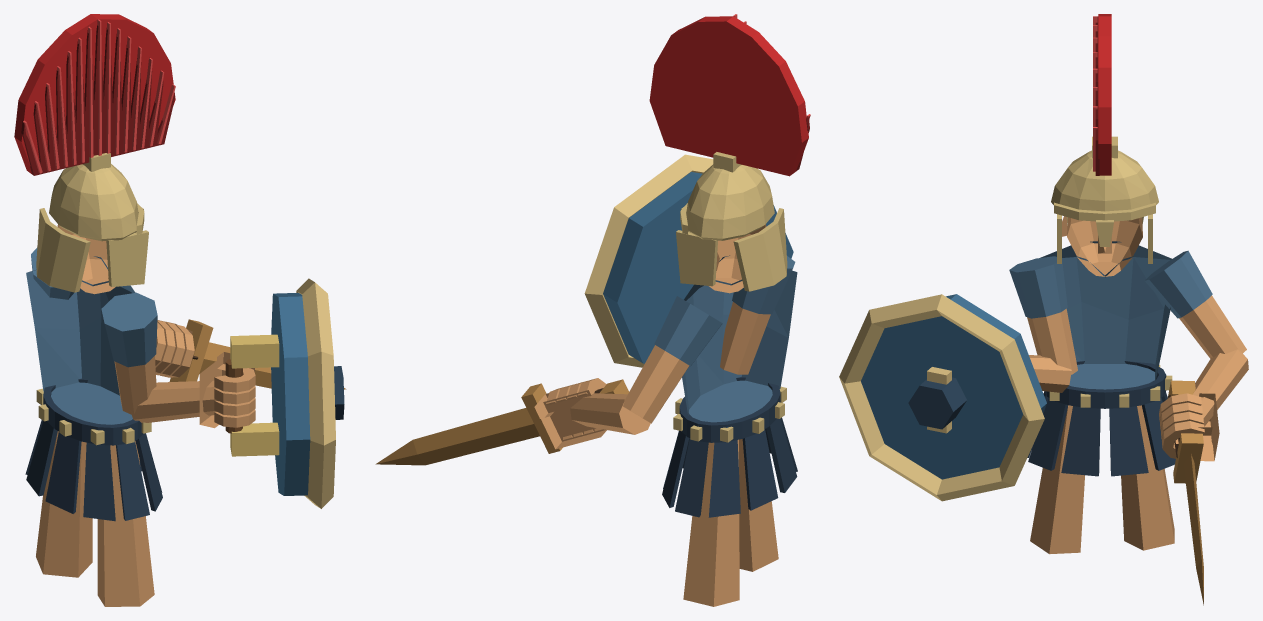
The model's file is romanSoldier_gladius_red.glb.
The picture shows the model from 3 angles, left to right: view 1: azimuth 30°, elevation 25°; view 2: azimuth 150°, elevation 25°; view 3: azimuth 270°, elevation 25°; orthographic projection. The views are drawn at different scales.
Parts seen in each view (by area): view 1: Helmet_Galea.002, n3, Skirt_Ten_Separated_Lames.002, soldier-crest, soldier-crest-feathers, n33, soldier-crest-stems, n35, n24, n27, Short_blue_sleeve_L, Closed_gripping_hand_L (+11 smaller); view 2: soldier-crest, Helmet_Galea.002, n33, n3, Skirt_Ten_Separated_Lames.002, n27, n35, n53, n24, Closed_gripping_hand_R, n21, Short_blue_sleeve_R (+6 smaller); view 3: n33, n35, n3, Skirt_Ten_Separated_Lames.002, Helmet_Galea.002, n24, n27, n7, Closed_gripping_hand_R, Short_blue_sleeve_L, Short_blue_sleeve_R, soldier-crest (+10 smaller).
Boxes of the visible parts, x1,y1,x2,y2 form: Helmet_Galea.002: [36, 153, 151, 445]; n3: [26, 256, 135, 430]; Skirt_Ten_Separated_Lames.002: [25, 420, 162, 521]; soldier-crest: [14, 14, 175, 173]; soldier-crest-feathers: [21, 25, 174, 175]; n33: [271, 292, 310, 495]; soldier-crest-stems: [23, 19, 175, 173]; n35: [296, 278, 335, 508]; n24: [97, 441, 154, 606]; n27: [36, 431, 92, 577]; Short_blue_sleeve_L: [101, 292, 157, 367]; Closed_gripping_hand_L: [199, 352, 255, 428]; soldier-crest: [649, 16, 808, 176]; Helmet_Galea.002: [673, 152, 787, 442]; n33: [603, 172, 793, 363]; n3: [682, 255, 797, 427]; Skirt_Ten_Separated_Lames.002: [662, 417, 797, 517]; n27: [683, 439, 739, 606]; n35: [584, 154, 713, 367]; n53: [375, 408, 539, 465]; n24: [739, 439, 778, 571]; Closed_gripping_hand_R: [534, 378, 606, 449]; n21: [623, 345, 689, 423]; Short_blue_sleeve_R: [654, 296, 722, 366]; n33: [861, 294, 1046, 479]; n35: [839, 294, 1044, 501]; n3: [1040, 241, 1171, 389]; Skirt_Ten_Separated_Lames.002: [1027, 392, 1175, 476]; Helmet_Galea.002: [1049, 136, 1172, 407]; n24: [1030, 405, 1084, 554]; n27: [1121, 405, 1174, 550]; n7: [1062, 216, 1142, 276]; Closed_gripping_hand_R: [1159, 393, 1219, 461]; Short_blue_sleeve_L: [1009, 256, 1067, 318]; Short_blue_sleeve_R: [1144, 250, 1212, 318]; soldier-crest: [1098, 14, 1111, 175].
Bounding box in the file's own units: 0.8179 × 1.16 × 0.8176.
